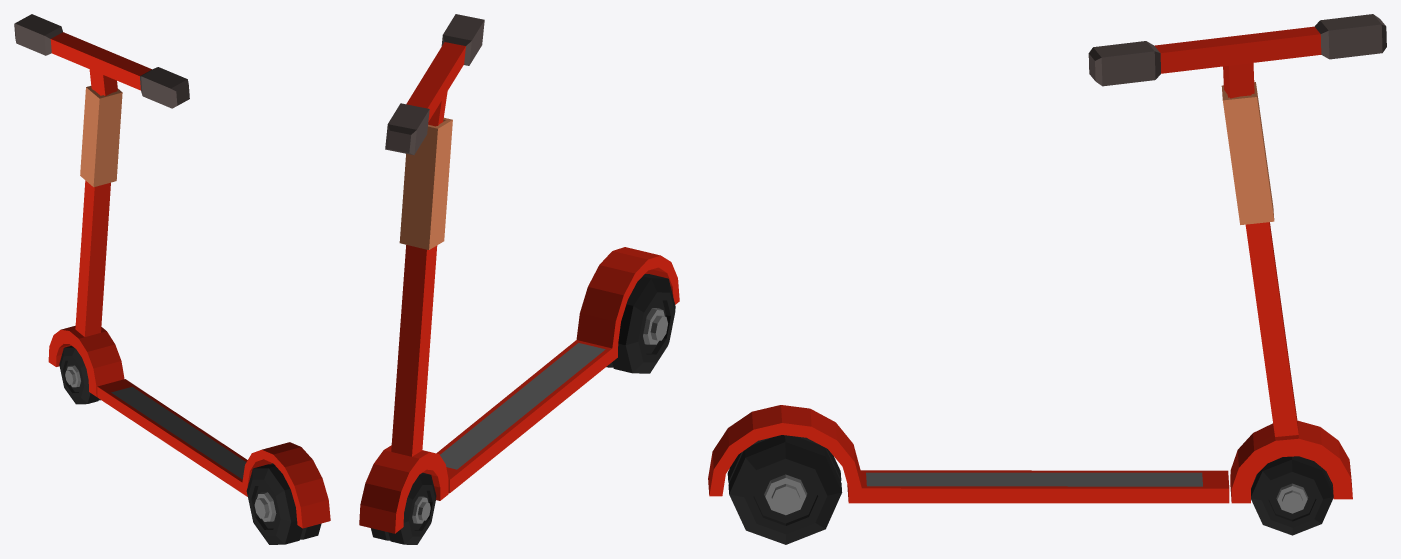
The model's file is Scooter.fbx.
The picture shows the model from 3 angles, left to right: view 1: azimuth 30°, elevation 25°; view 2: azimuth 150°, elevation 25°; view 3: azimuth 270°, elevation 25°; orthographic projection. The views are drawn at different scales.
Visible parts, largest first — view 1: Scooter; view 2: Scooter; view 3: Scooter.
Boxes of the visible parts, x1,y1,x2,y2 form: Scooter: [14, 14, 330, 544]; Scooter: [359, 14, 679, 544]; Scooter: [708, 14, 1386, 544].
Size of the model in its own units: 1.44 by 1.15 by 0.2463.
